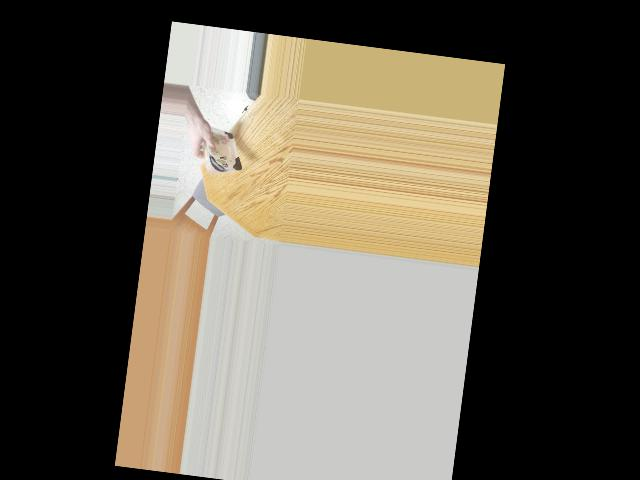cheese: (202, 121, 244, 174)
